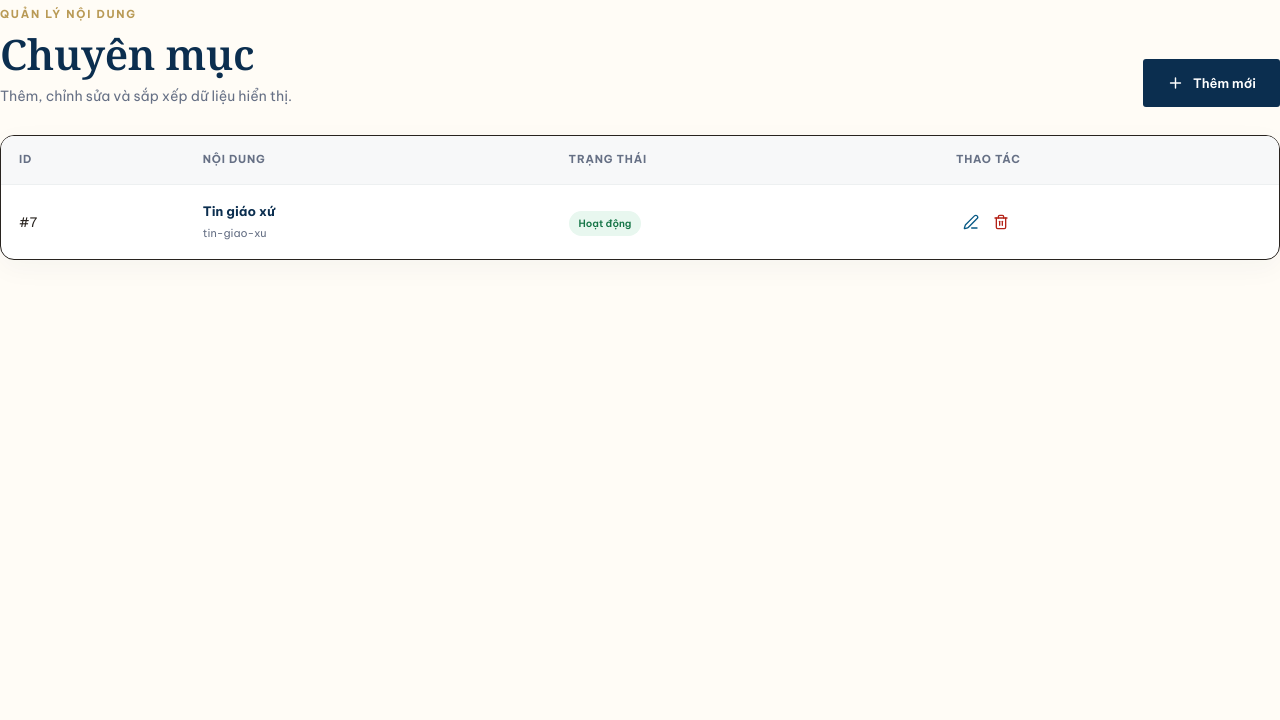
Scenario: GenericManagerPage dialog save › names item actions and blocks duplicate submission and dismissal while saving
Later steps or results of the test are not shown.
Expected: the button named "Xóa Tin giáo xứ" is shown, [986, 203, 1016, 241]
Click the button named "Chỉnh sửa Tin giáo xứ".
click(971, 222)  # box [956, 203, 986, 241]
(page scrolled)
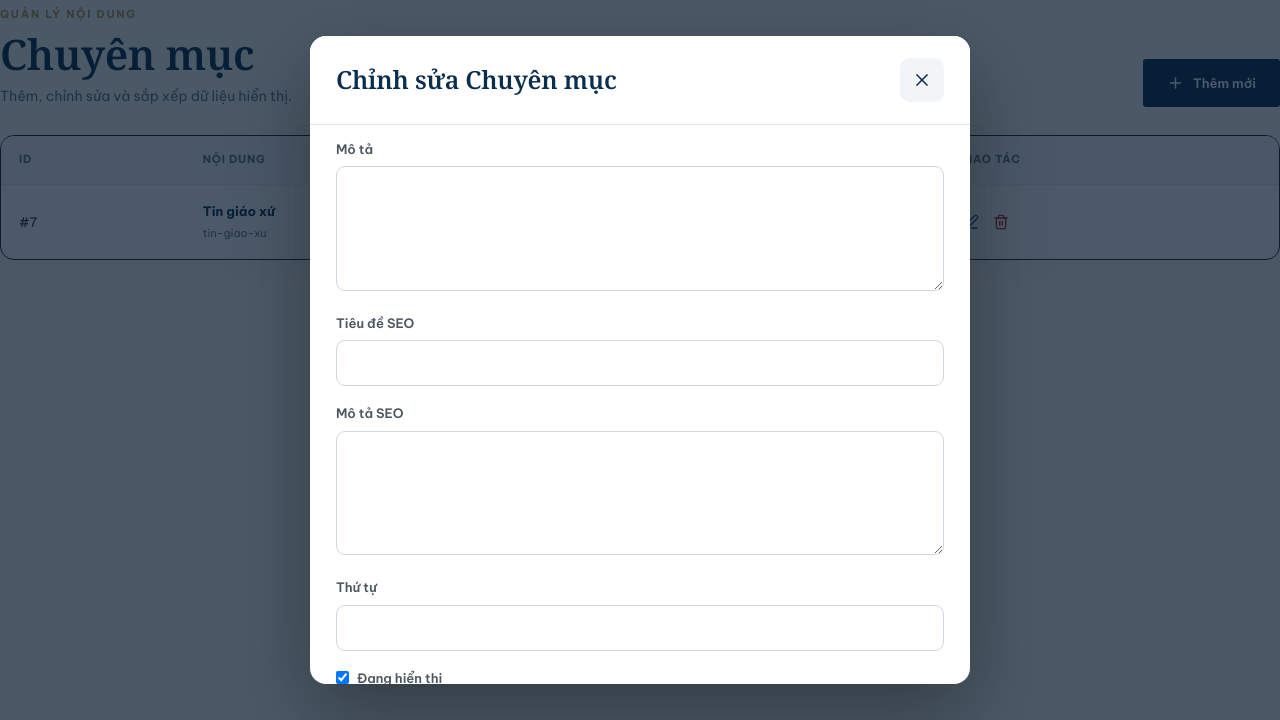
Submit the form named "Lưu thay đổi"
Submit the form named "Lưu thay đổi"
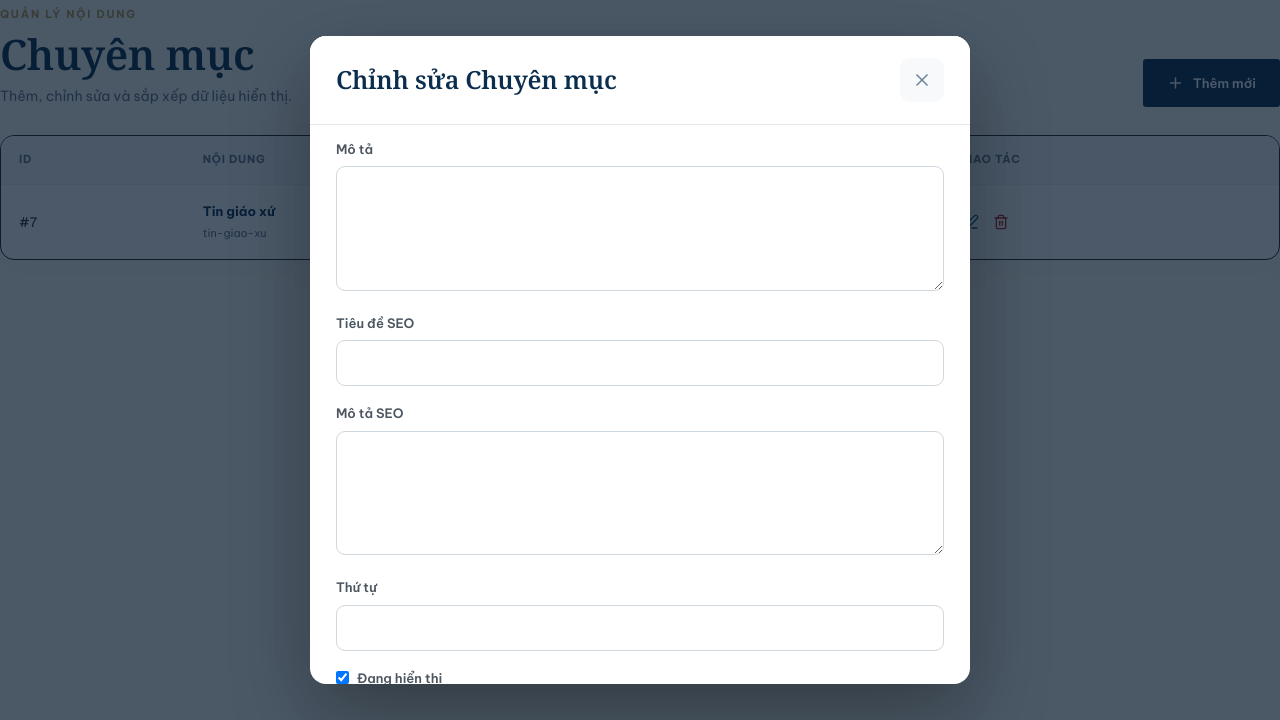
Press Escape
Click the element with class "admin-dialog-backdrop".
click(77, 360)  # box [0, 0, 1279, 719]
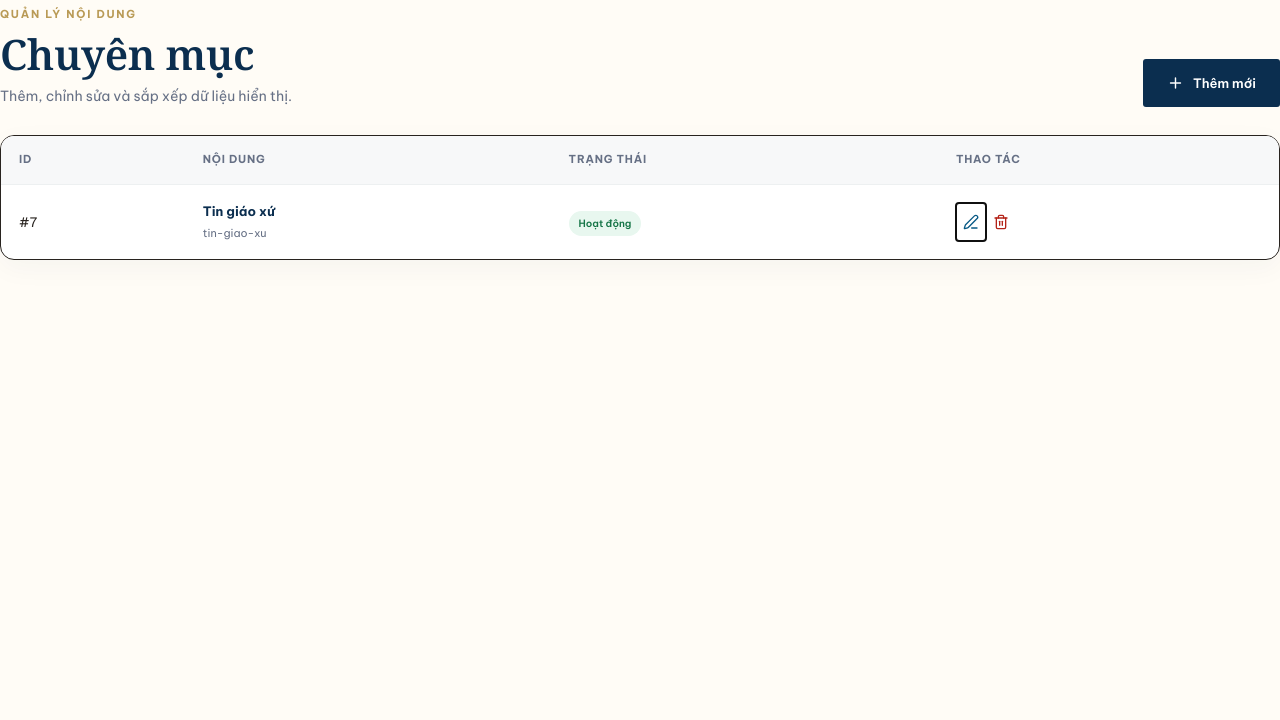
Expected: the dialog is gone
